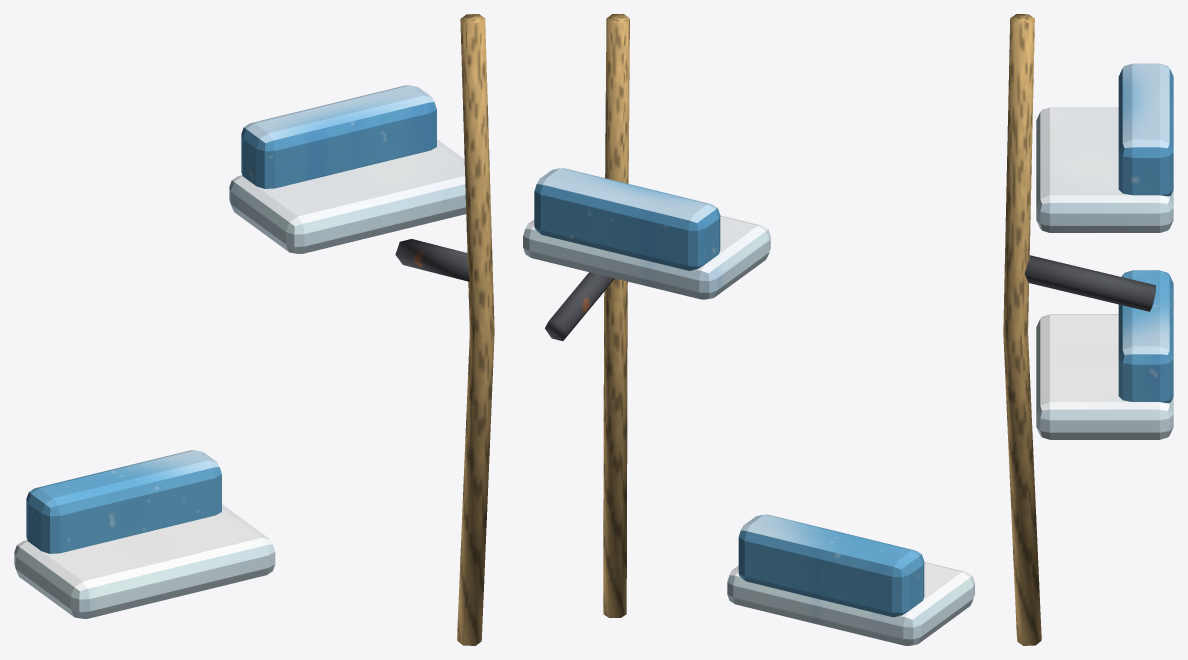
File: ice_steps.glb
3 renders of one model, left to right at view 1: azimuth 30°, elevation 25°; view 2: azimuth 150°, elevation 25°; view 3: azimuth 270°, elevation 25°, orthographic. The views are drawn at different scales.
Parts seen in each view (by area): view 1: IceSteps; view 2: IceSteps; view 3: IceSteps.
Part boxes in pixels (x1=…): IceSteps: x1=14, y1=14, x2=494, y2=645; IceSteps: x1=523, y1=14, x2=974, y2=645; IceSteps: x1=1003, y1=14, x2=1173, y2=645.
Bounding box in the file's own units: 0.7 × 1 × 0.248.
Materials: 1 (1 with a texture image).
